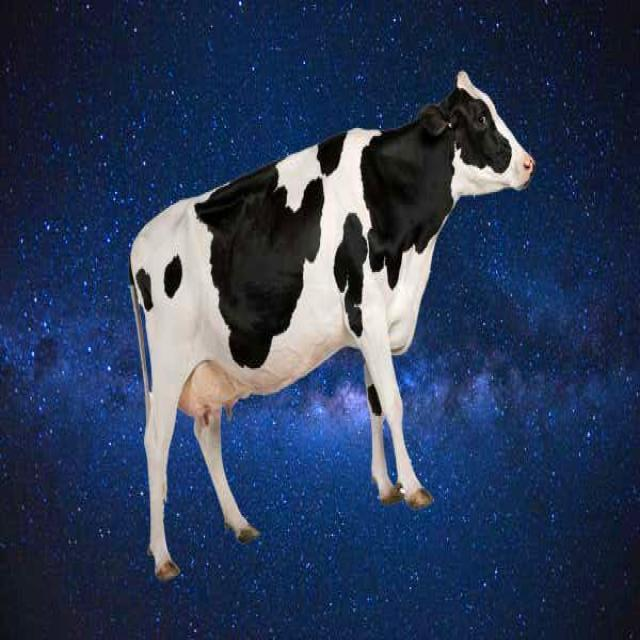chimpanzee: (131, 70, 535, 579)
